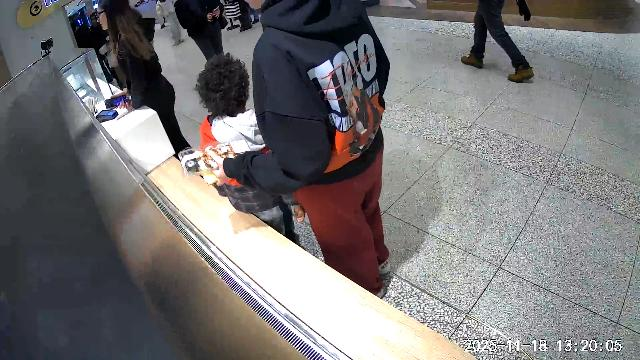sushi-box: (177, 138, 252, 178)
